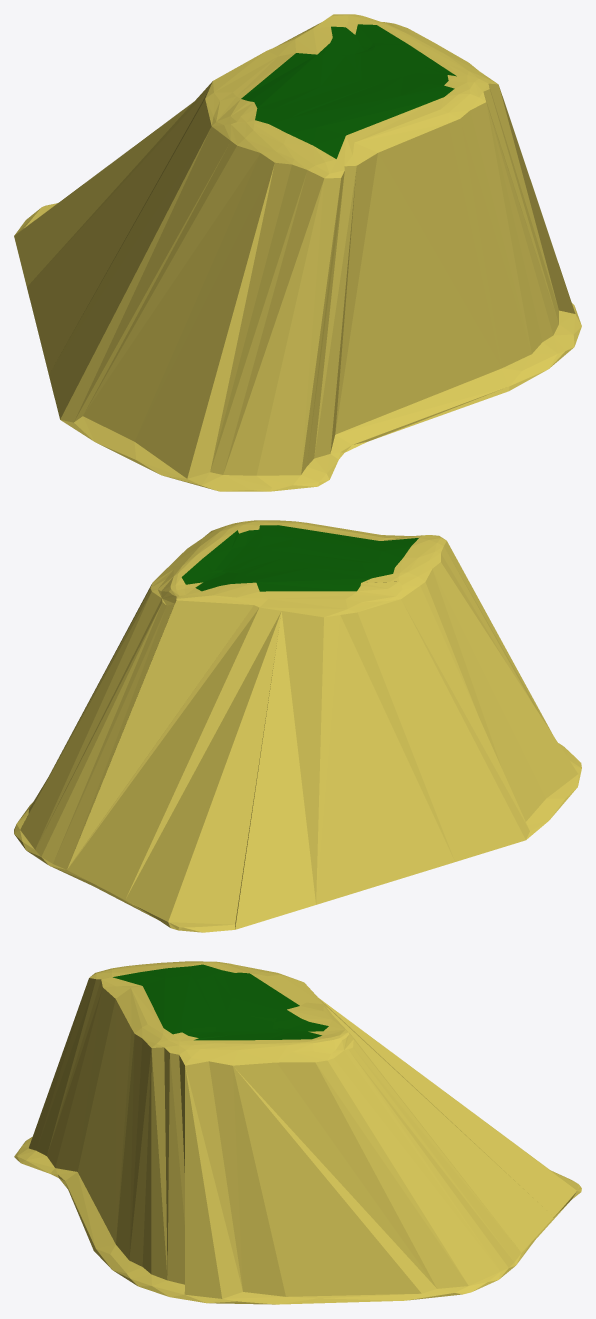
The model's file is Island3.FBX.
3 views of the same model, one above another, from view 1: azimuth 30°, elevation 25°; view 2: azimuth 150°, elevation 25°; view 3: azimuth 270°, elevation 25° (orthographic). The views are drawn at different scales.
Visible parts, largest first — view 1: Sphere005; view 2: Sphere005; view 3: Sphere005.
Boxes of the visible parts, bbox=[...] form: Sphere005: bbox=[14, 14, 581, 491]; Sphere005: bbox=[14, 520, 581, 932]; Sphere005: bbox=[14, 961, 581, 1304].
Bounding box in the file's own units: 779 × 950 × 399.
